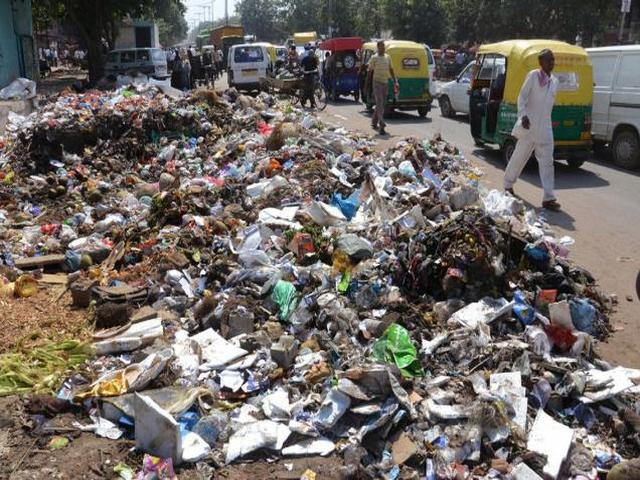garbage: (35, 106, 315, 455), (334, 188, 527, 468)
